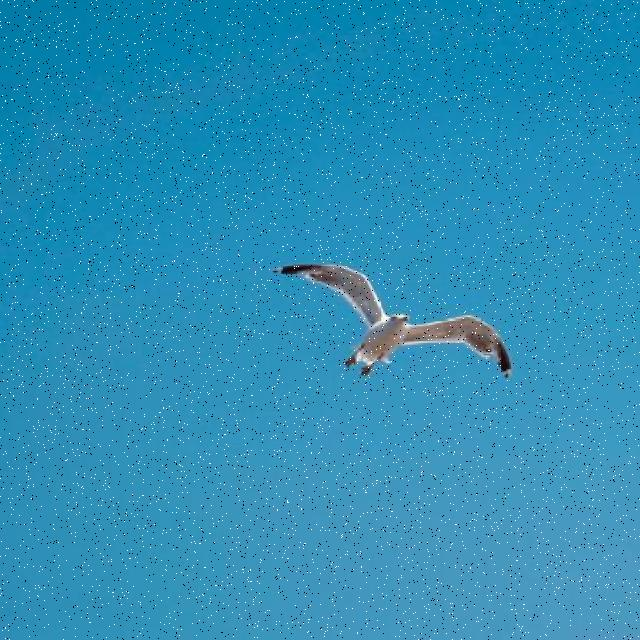bird: (272, 264, 514, 379)
